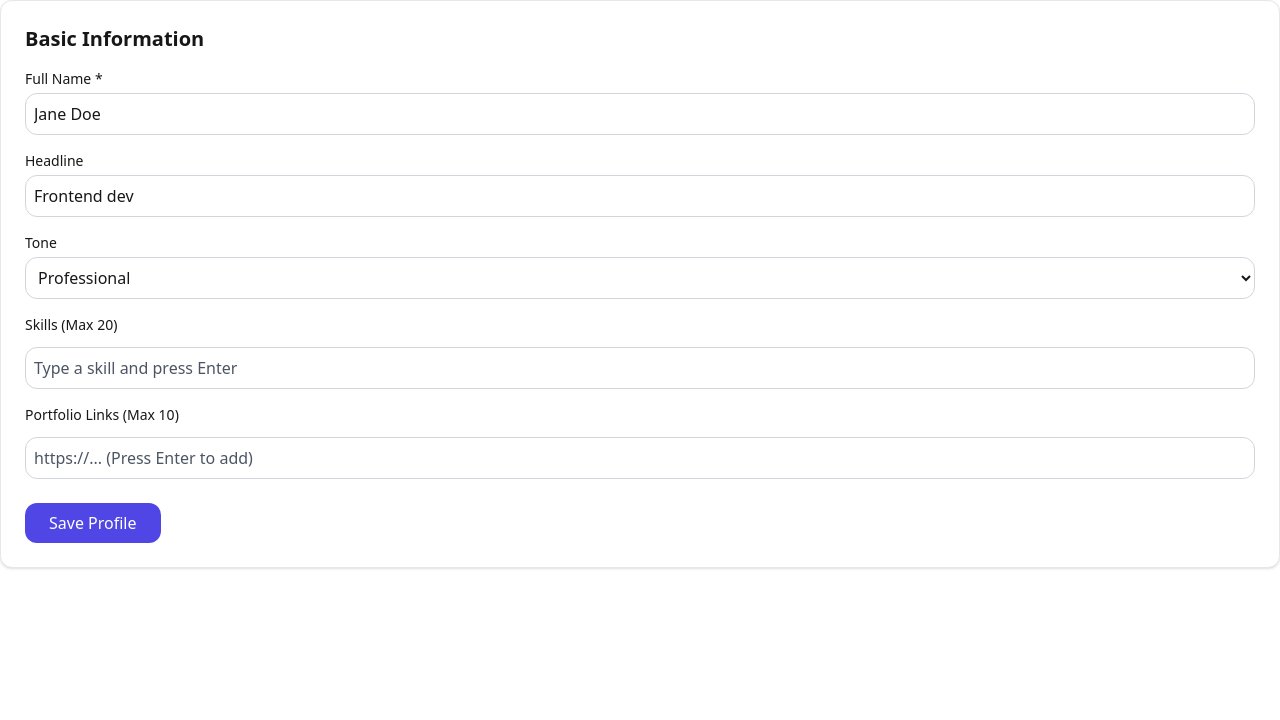
Test: ProfileForm – skills tag input › adds a skill when Enter is pressed
The image size is (1280, 720).
Type "React" into the field with placeholder "Type a skill and press Enter" at (640, 368), box [25,347,1255,389]
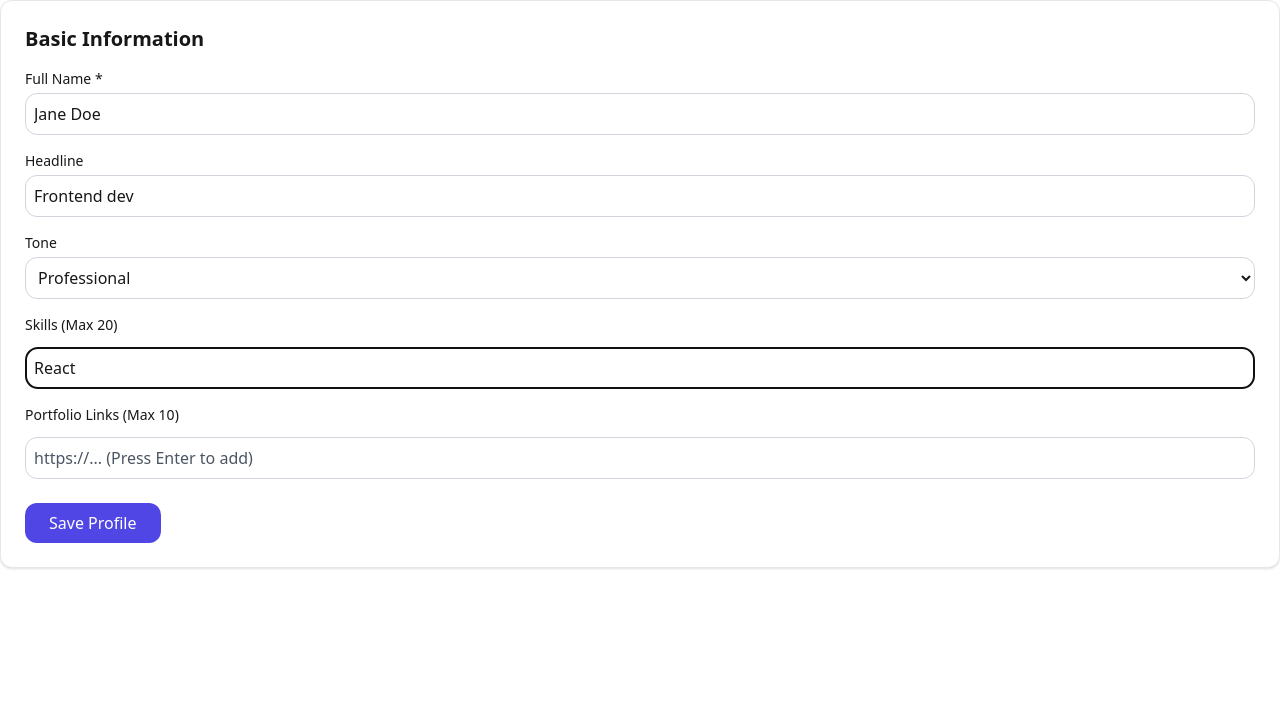
Press Enter
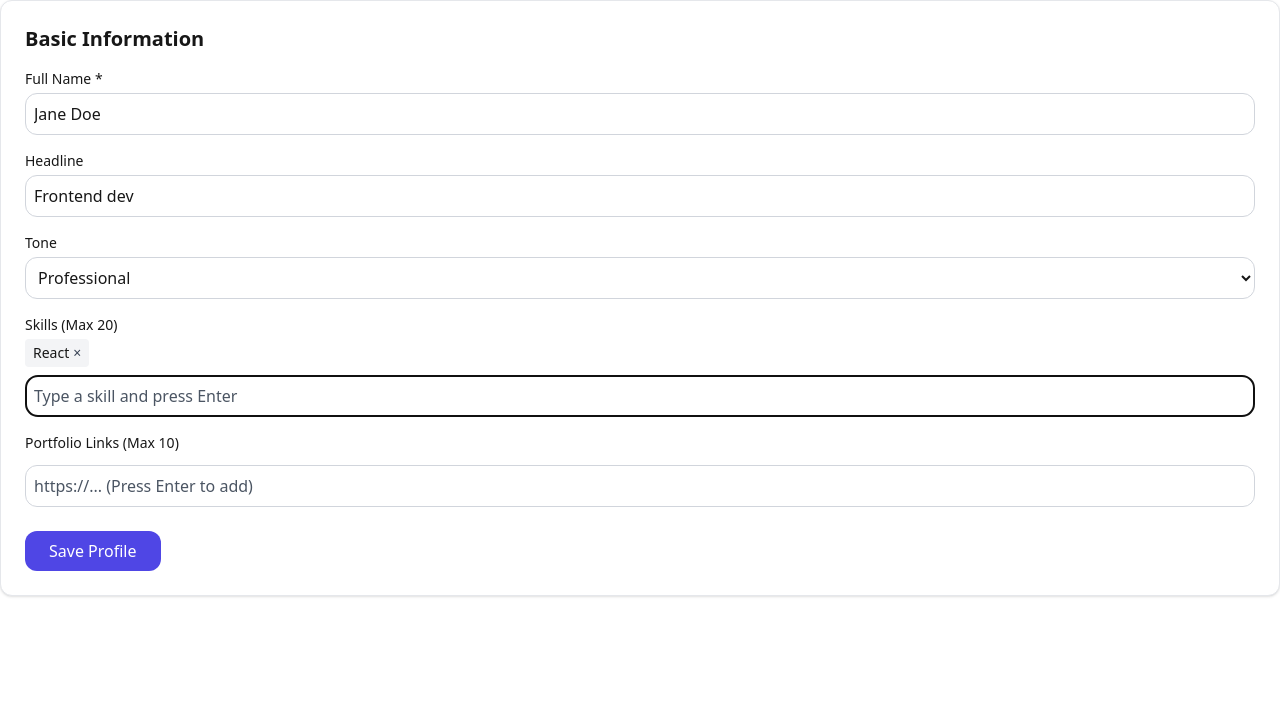
Expected: the text "React" is shown, [33,343,69,362]
